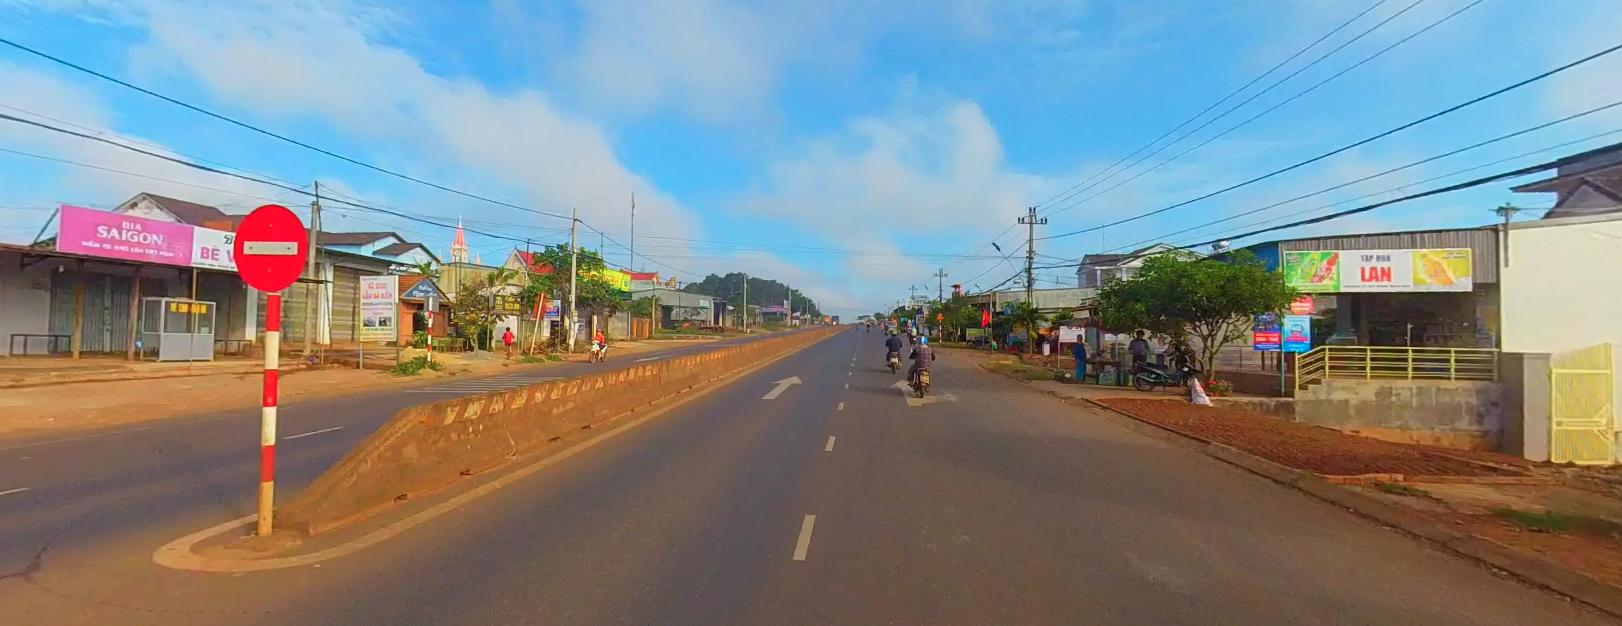Cam nguoc chieu: (233, 203, 305, 289), (235, 205, 306, 290)
Nguy hiem: (935, 310, 944, 317), (935, 310, 943, 317)
